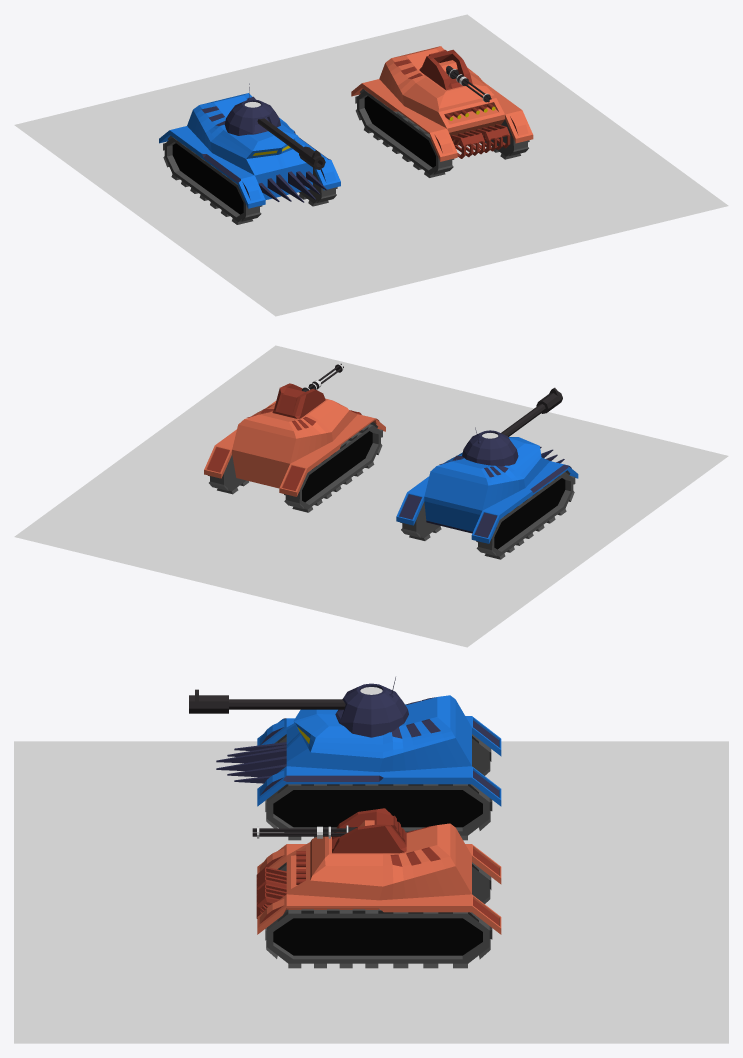
Rendered from Tanks.fbx.
3 renders of one model, top to bottom at view 1: azimuth 30°, elevation 25°; view 2: azimuth 150°, elevation 25°; view 3: azimuth 270°, elevation 25°, orthographic. The views are drawn at different scales.
Visible parts, largest first — view 1: Floor, Tank_minigun, Tank_cannon, Tank_minigun_whell, Tank_cannon_whell, Tank_cannon_turret, Tank_minigun_turret; view 2: Floor, Tank_cannon, Tank_minigun, Tank_minigun_whell, Tank_cannon_whell, Tank_cannon_turret, Tank_minigun_turret; view 3: Floor, Tank_cannon, Tank_minigun, Tank_minigun_whell, Tank_cannon_whell, Tank_cannon_turret, Tank_minigun_turret, Tank_minigun_weapon.
Part boxes in pixels (x1=…): Floor: x1=14, y1=14, x2=728, y2=316; Tank_minigun: x1=351, y1=46, x2=533, y2=161; Tank_cannon: x1=159, y1=93, x2=340, y2=208; Tank_minigun_whell: x1=355, y1=89, x2=529, y2=177; Tank_cannon_whell: x1=163, y1=135, x2=337, y2=224; Tank_cannon_turret: x1=224, y1=83, x2=325, y2=169; Tank_minigun_turret: x1=419, y1=49, x2=472, y2=90; Floor: x1=14, y1=345, x2=728, y2=647; Tank_cannon: x1=396, y1=437, x2=578, y2=543; Tank_minigun: x1=204, y1=398, x2=385, y2=496; Tank_minigun_whell: x1=208, y1=422, x2=382, y2=512; Tank_cannon_whell: x1=400, y1=470, x2=575, y2=559; Tank_cannon_turret: x1=462, y1=387, x2=562, y2=466; Tank_minigun_turret: x1=272, y1=383, x2=325, y2=418; Floor: x1=14, y1=741, x2=728, y2=1043; Tank_cannon: x1=216, y1=695, x2=501, y2=806; Tank_minigun: x1=256, y1=823, x2=501, y2=934; Tank_minigun_whell: x1=265, y1=862, x2=492, y2=968; Tank_cannon_whell: x1=265, y1=734, x2=492, y2=840; Tank_cannon_turret: x1=189, y1=677, x2=408, y2=737; Tank_minigun_turret: x1=332, y1=808, x2=406, y2=853; Tank_minigun_weapon: x1=252, y1=825, x2=357, y2=838.
Bounding box in the file's own units: 639 × 139 × 639.
